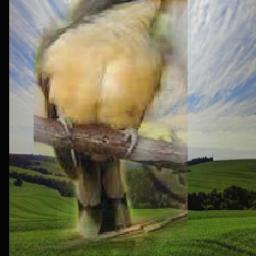Cuckoo: (35, 0, 189, 256)
